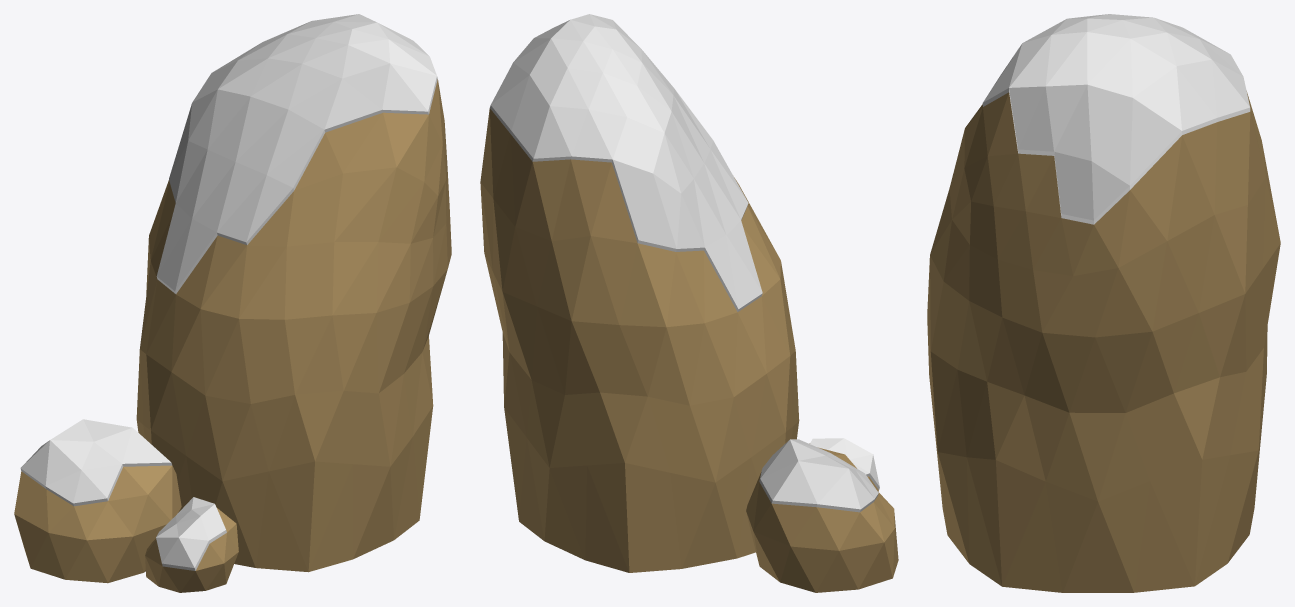
The model's file is Stone4b.fbx.
The picture shows the model from 3 angles, left to right: view 1: azimuth 30°, elevation 25°; view 2: azimuth 150°, elevation 25°; view 3: azimuth 270°, elevation 25°; orthographic projection. The views are drawn at different scales.
Visible parts, largest first — view 1: Stone4.001; view 2: Stone4.001; view 3: Stone4.001.
Part boxes in pixels (x1,y1,x2,y2): Stone4.001: (14,14,451,592); Stone4.001: (480,14,898,592); Stone4.001: (927,14,1280,592).
Size of the model in its own units: 597 by 663 by 385.
